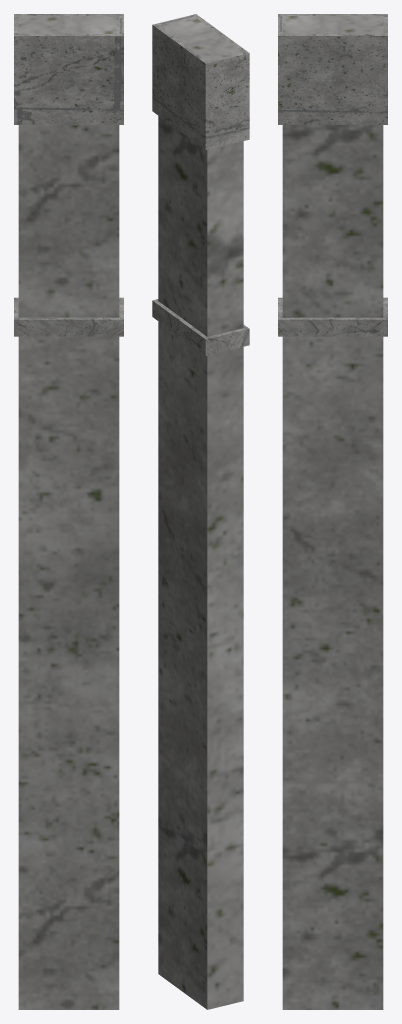
The model's file is column.fbx.
3 renders of one model, left to right at view 1: azimuth 90°, elevation 25°; view 2: azimuth 210°, elevation 25°; view 3: azimuth 270°, elevation 25°, orthographic. The views are drawn at different scales.
Parts seen in each view (by area): view 1: pCube42, pCube43, pCube44; view 2: pCube42, pCube43, pCube44; view 3: pCube42, pCube43, pCube44.
Part boxes in pixels (box(x1,y1,x2,y2)): pCube42: box(18, 16, 119, 1009); pCube43: box(14, 14, 123, 124); pCube44: box(14, 297, 123, 336); pCube42: box(158, 16, 243, 1009); pCube43: box(152, 14, 249, 150); pCube44: box(152, 299, 249, 355); pCube42: box(282, 16, 383, 1009); pCube43: box(278, 14, 387, 124); pCube44: box(278, 297, 387, 336).
Size of the model in its own units: 16.22 by 335 by 34.23.
Materials: 1 (1 with a texture image).
